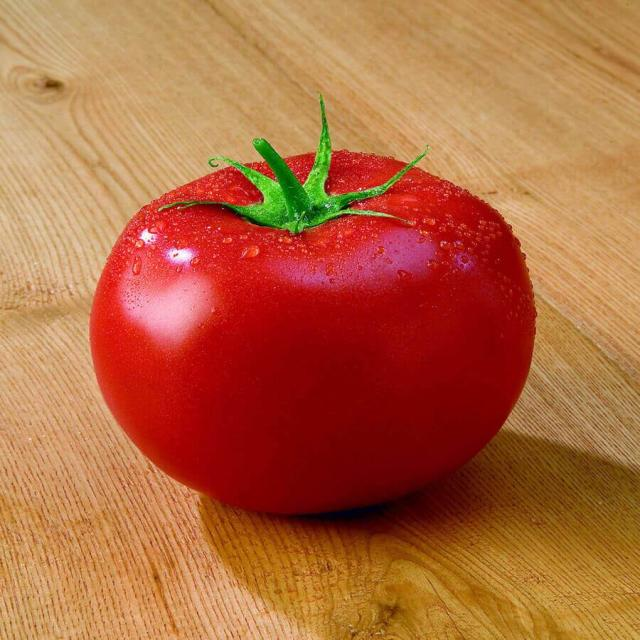Fresh_tomato: (96, 155, 534, 514)
